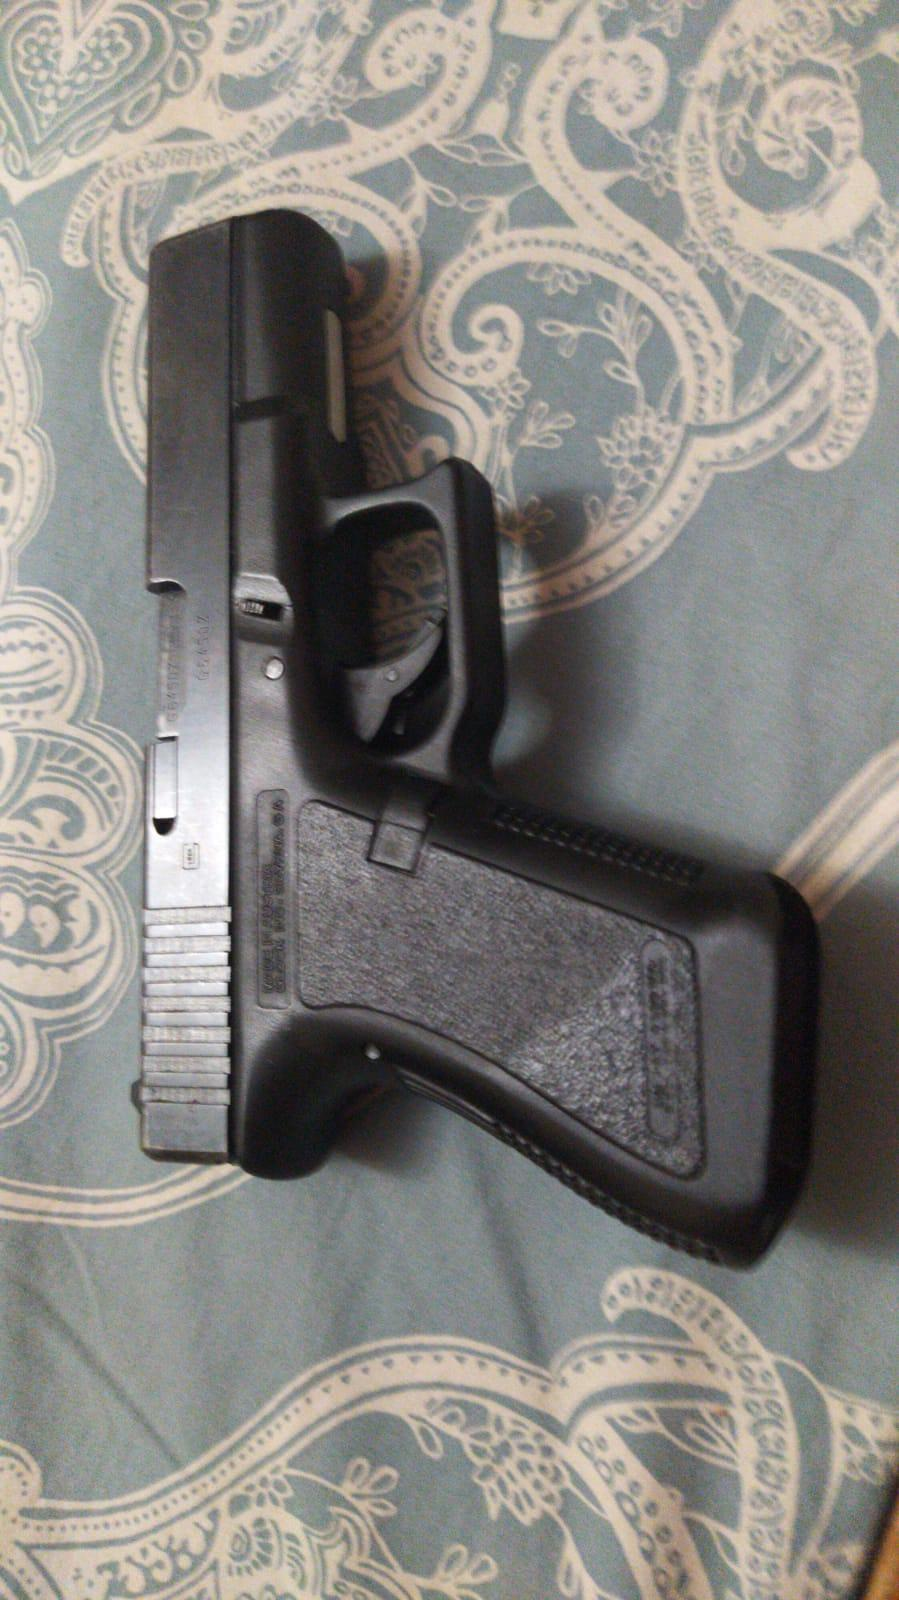weapon: (129, 207, 817, 1270)
